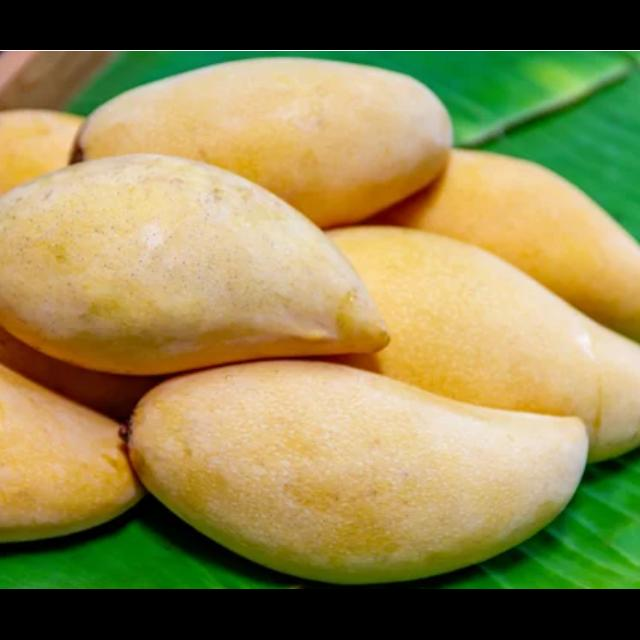mango: (125, 357, 591, 586), (0, 157, 390, 371)
